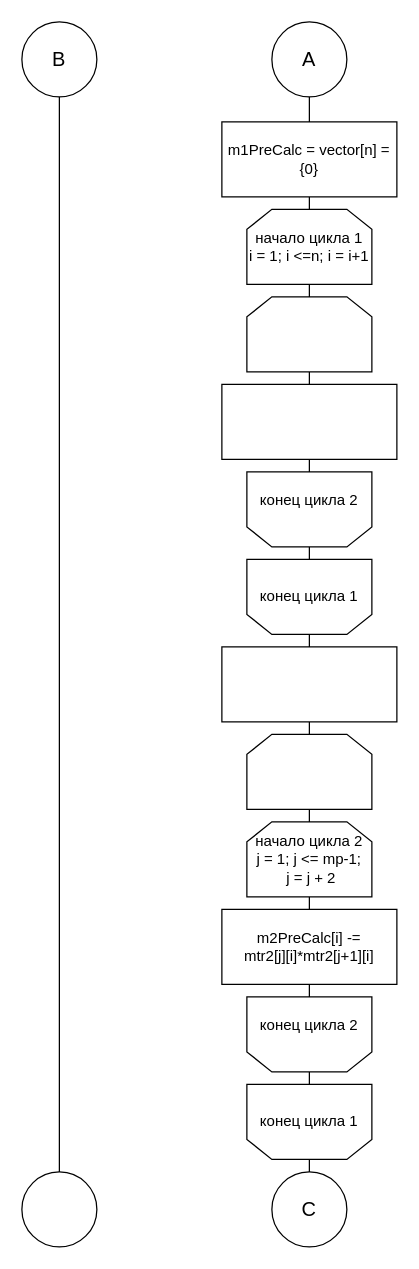
Some shapes in this 419 by 1269 pixel diagram are drawn without their labels. The shapes that lost their labels are listed below. From the top down, each one's centre as x and y in pixels, then its label:
[309,334]: начало цикла 2 j = 1; j <= np'-1; j = j + 2
[309,421]: m1PreCalc[i] -= mtr1[i][j]*mtr1[i][j+1]
[309,684]: m2PreCalc = vector[m']
[309,771]: начало цикла 1 i = 1; i <=m'; i = i+1
[59,1209]: B'
